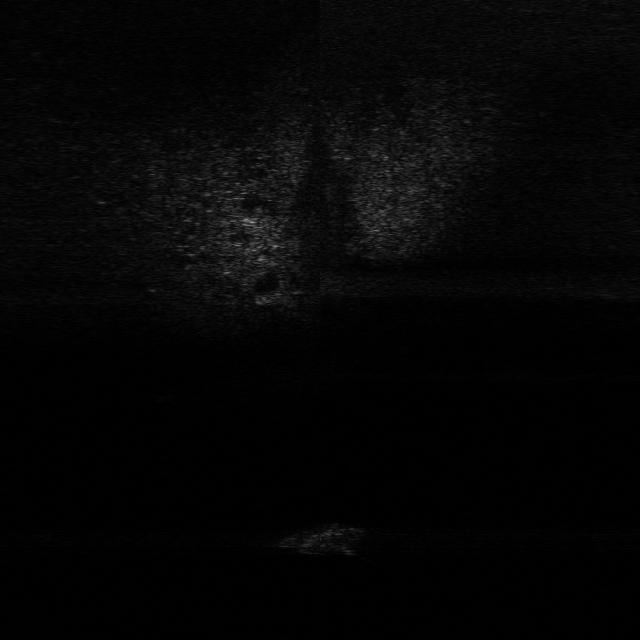circle cage: (286, 512, 366, 564)
